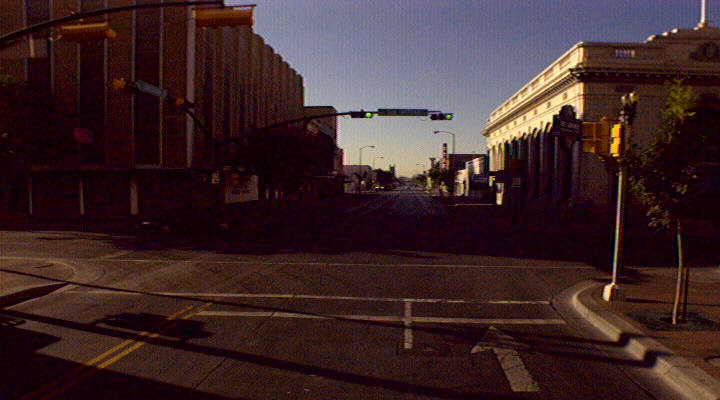Ramp: (2, 250, 87, 297)
